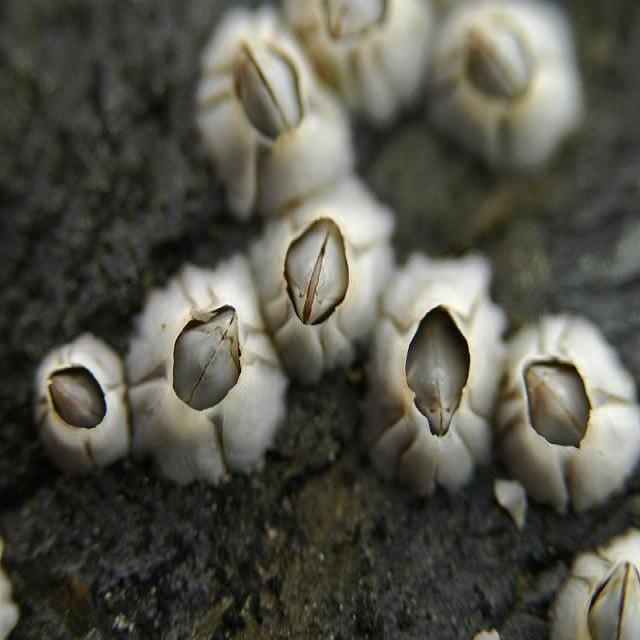barnacles: (360, 250, 498, 510), (130, 273, 283, 488), (170, 16, 347, 197), (498, 321, 639, 524), (432, 0, 590, 173), (260, 175, 388, 388), (27, 332, 127, 480), (558, 533, 639, 640)
